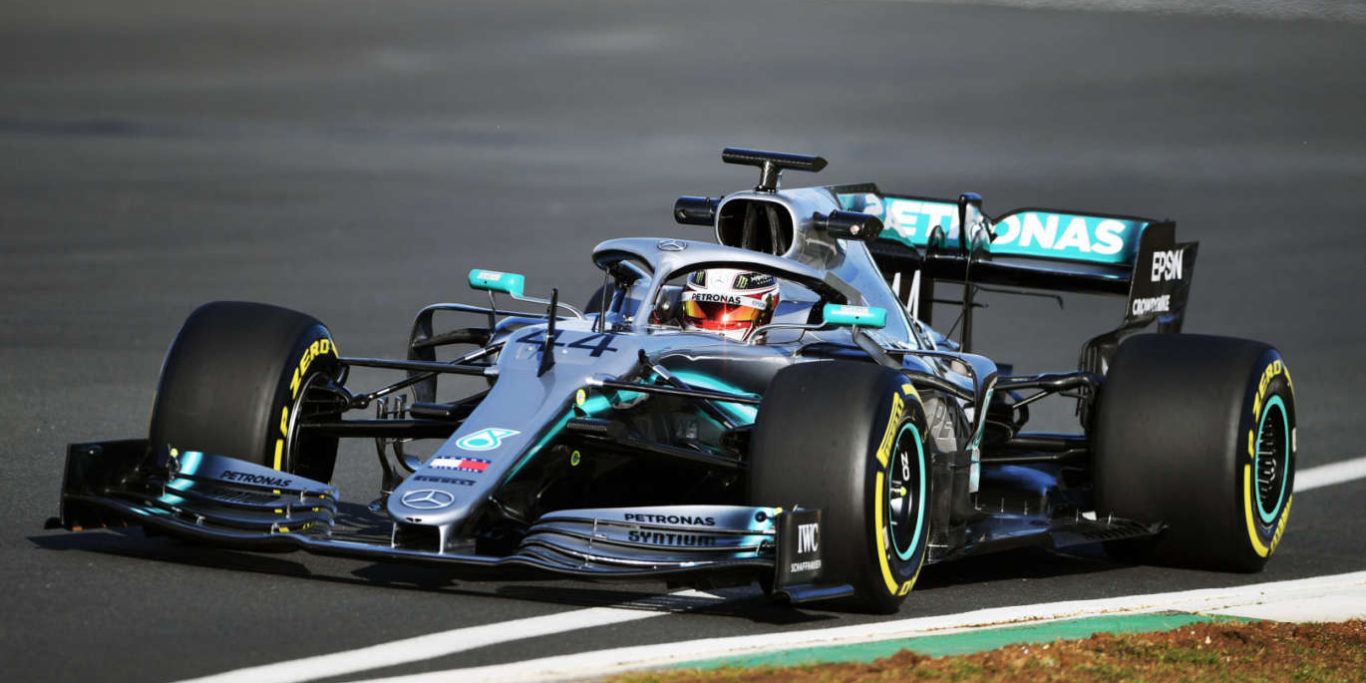F1 Car: (32, 135, 1310, 614)
